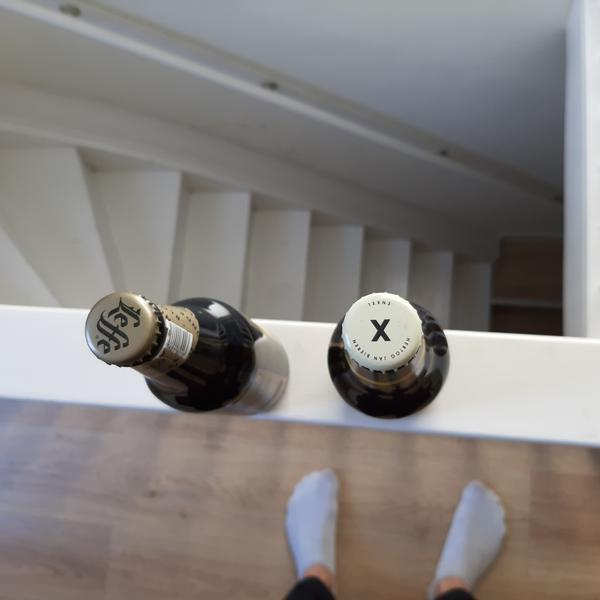leffe: (81, 291, 154, 363)
